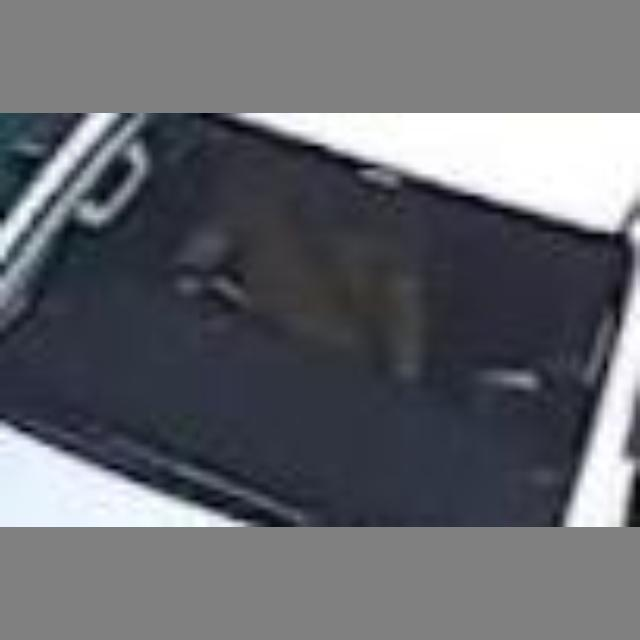pakai: (182, 144, 477, 370)
